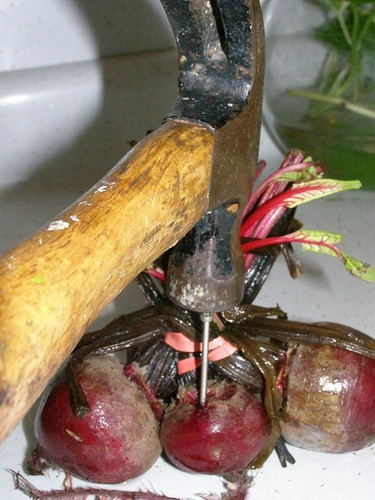hammer: (0, 1, 266, 435)
